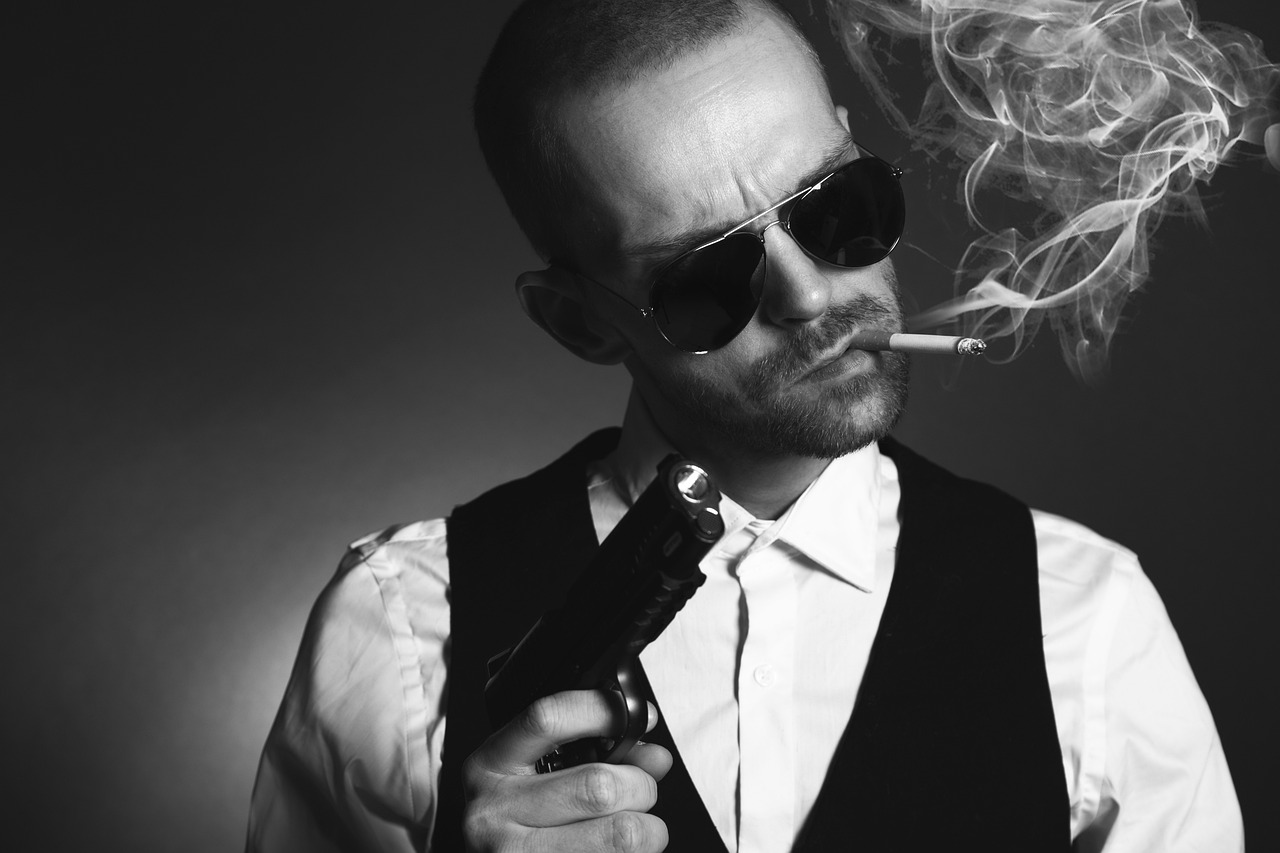cigarette: (844, 324, 995, 360)
gun: (472, 448, 730, 853)
